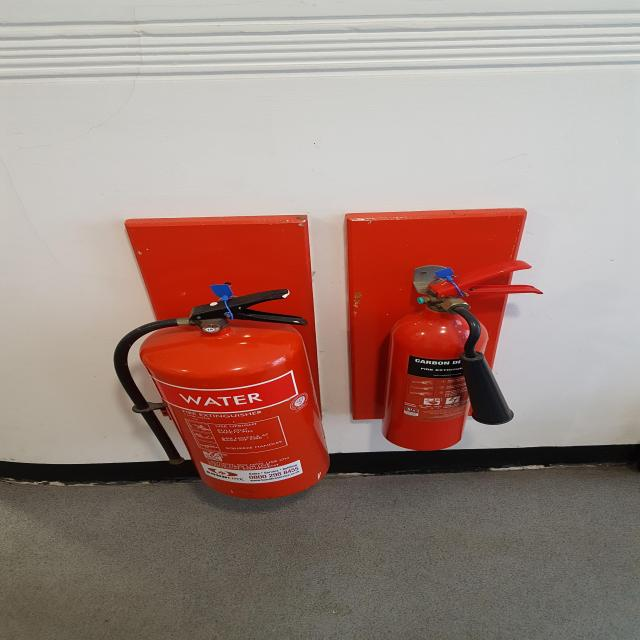fire_extinguisher: (109, 286, 336, 501), (379, 258, 548, 453)
